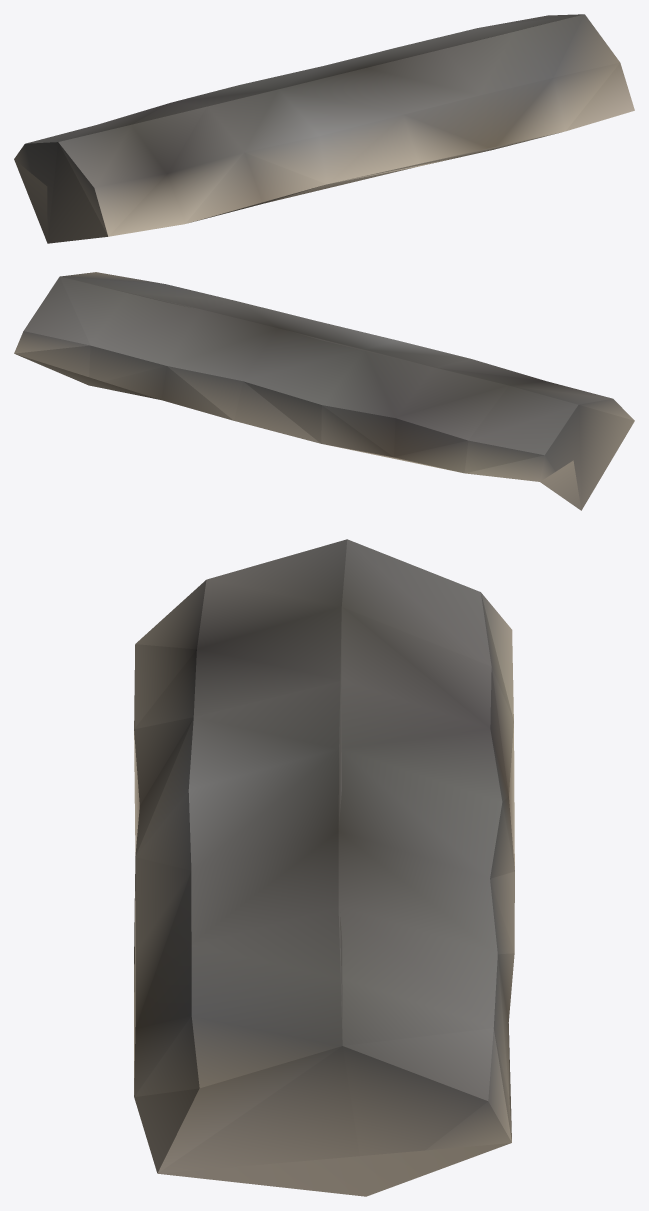
File: barrack_lod2.glb
The picture shows the model from 3 angles, top to bottom: view 1: azimuth 30°, elevation 25°; view 2: azimuth 150°, elevation 25°; view 3: azimuth 270°, elevation 25°; orthographic projection. The views are drawn at different scales.
Parts seen in each view (by area): view 1: geometry_0; view 2: geometry_0; view 3: geometry_0.
Boxes of the visible parts, left/top/right/bottom form: geometry_0: left=14, top=14, right=634, bottom=243; geometry_0: left=14, top=272, right=634, bottom=510; geometry_0: left=134, top=539, right=514, bottom=1196.
Bounding box in the file's own units: 1.11 × 0.2062 × 0.3458.
